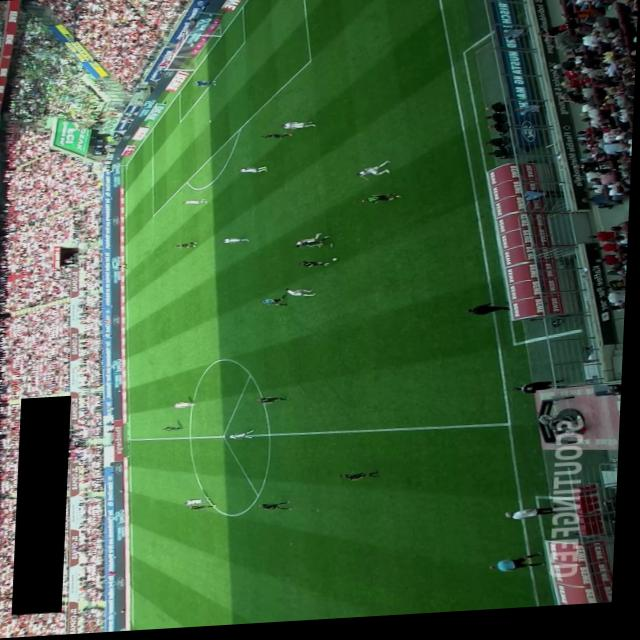goalkeeper: (193, 82, 218, 89)
player: (358, 164, 393, 186), (299, 239, 337, 253), (294, 236, 327, 251), (363, 197, 404, 208), (344, 475, 383, 486), (263, 503, 297, 515), (287, 290, 319, 301), (281, 124, 317, 133), (259, 398, 294, 407), (231, 432, 259, 442), (262, 135, 294, 143), (301, 263, 333, 271), (239, 169, 270, 176), (174, 243, 200, 251), (223, 239, 252, 246), (194, 506, 220, 513), (184, 200, 210, 207), (175, 403, 200, 410), (188, 500, 212, 507), (166, 427, 187, 433)
referee: (495, 558, 552, 578), (263, 297, 291, 310), (112, 264, 132, 271)
